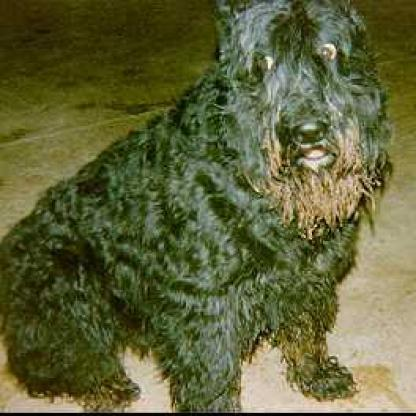Bouvier_des_Flandres: (0, 0, 413, 413)
